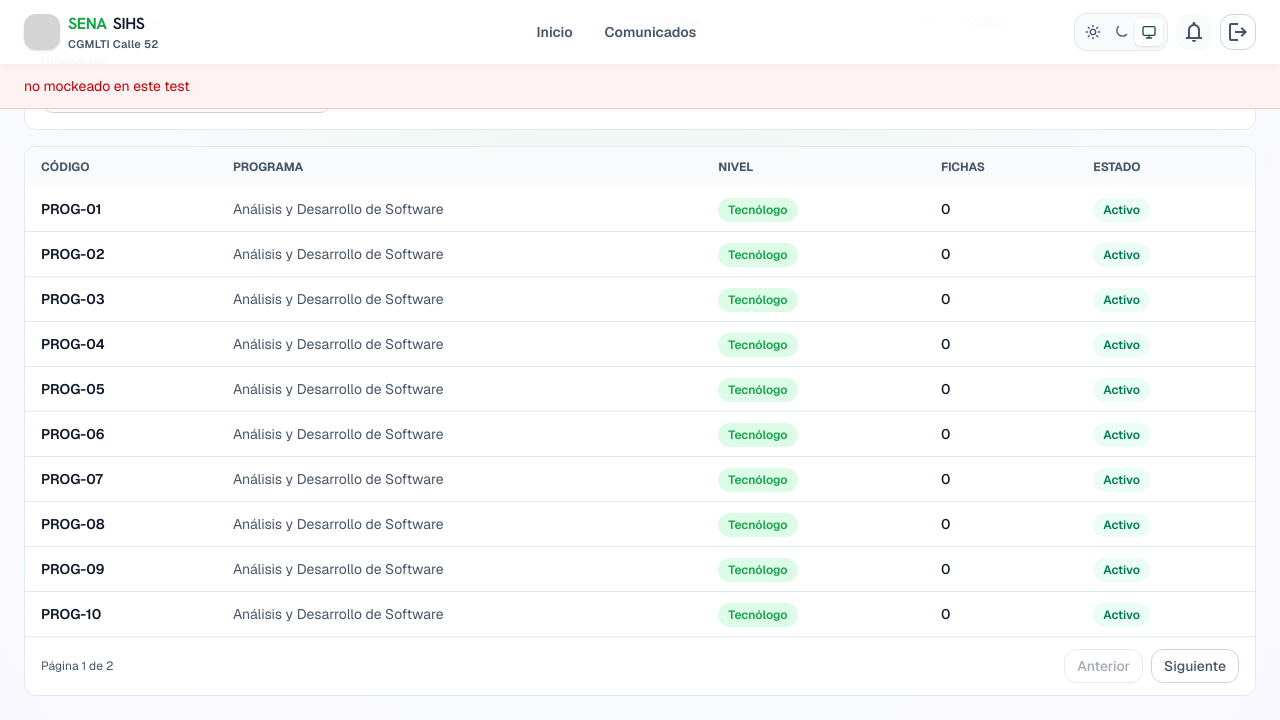
Scenario: Programas › con más de 10 programas, pagina y "Siguiente" avanza a la página 2
The width and height of the screenshot is (1280, 720).
(page scrolled)
Expected: the text "PROG-01" is shown, [25, 187, 217, 232]
Expected: the text "Página 1 de 2" is shown, [41, 658, 113, 674]
Click the button "Siguiente" at point(1195, 666), box [1151, 649, 1239, 683]
(page scrolled)
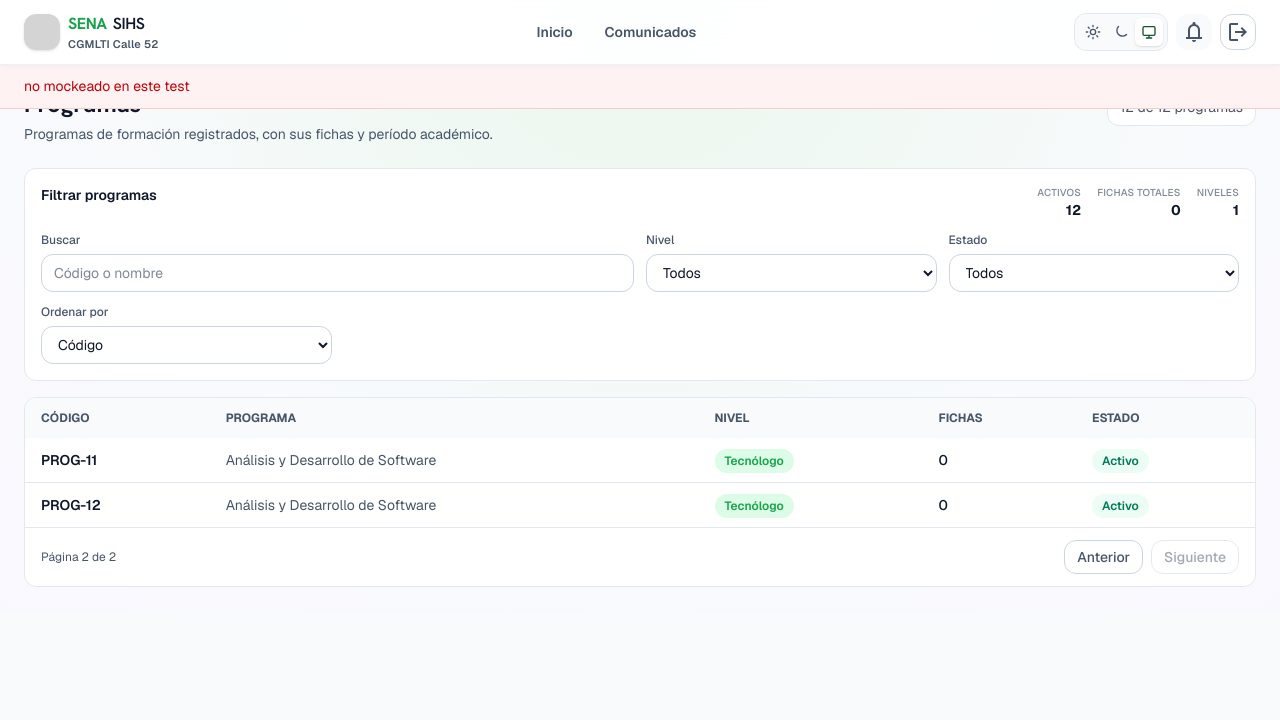
Now the text "Página 2 de 2" is shown, box [41, 549, 116, 565]
Now the text "PROG-11" is shown, box [25, 438, 210, 482]
